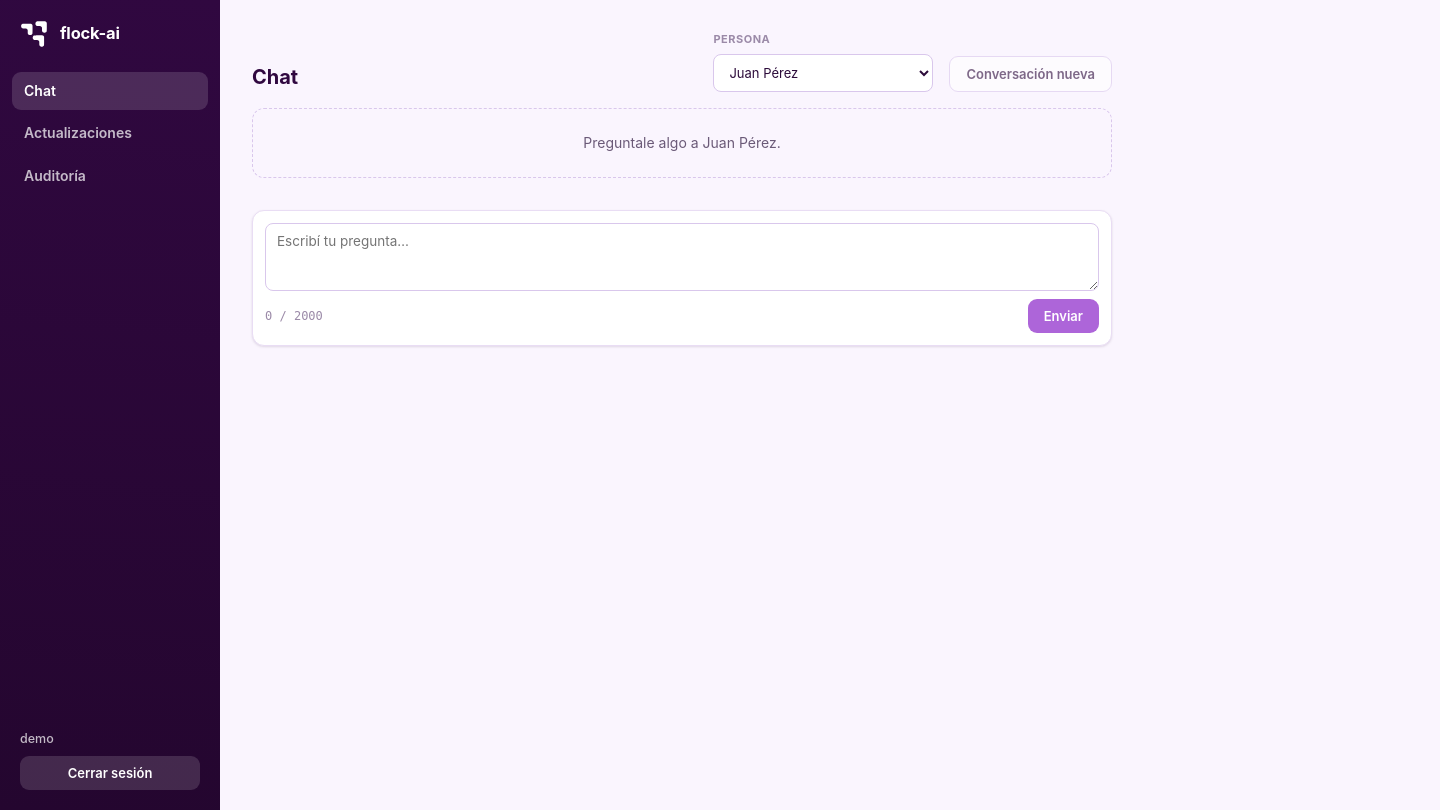
Scenario: chat screen › tells when the question could not be sent
Expected: the dropdown labelled "Persona" is shown, left=714, top=54, right=934, bottom=92
Type "¿Hola?" into the text box labelled "pregunta" at (682, 257), box left=265, top=223, right=1099, bottom=291
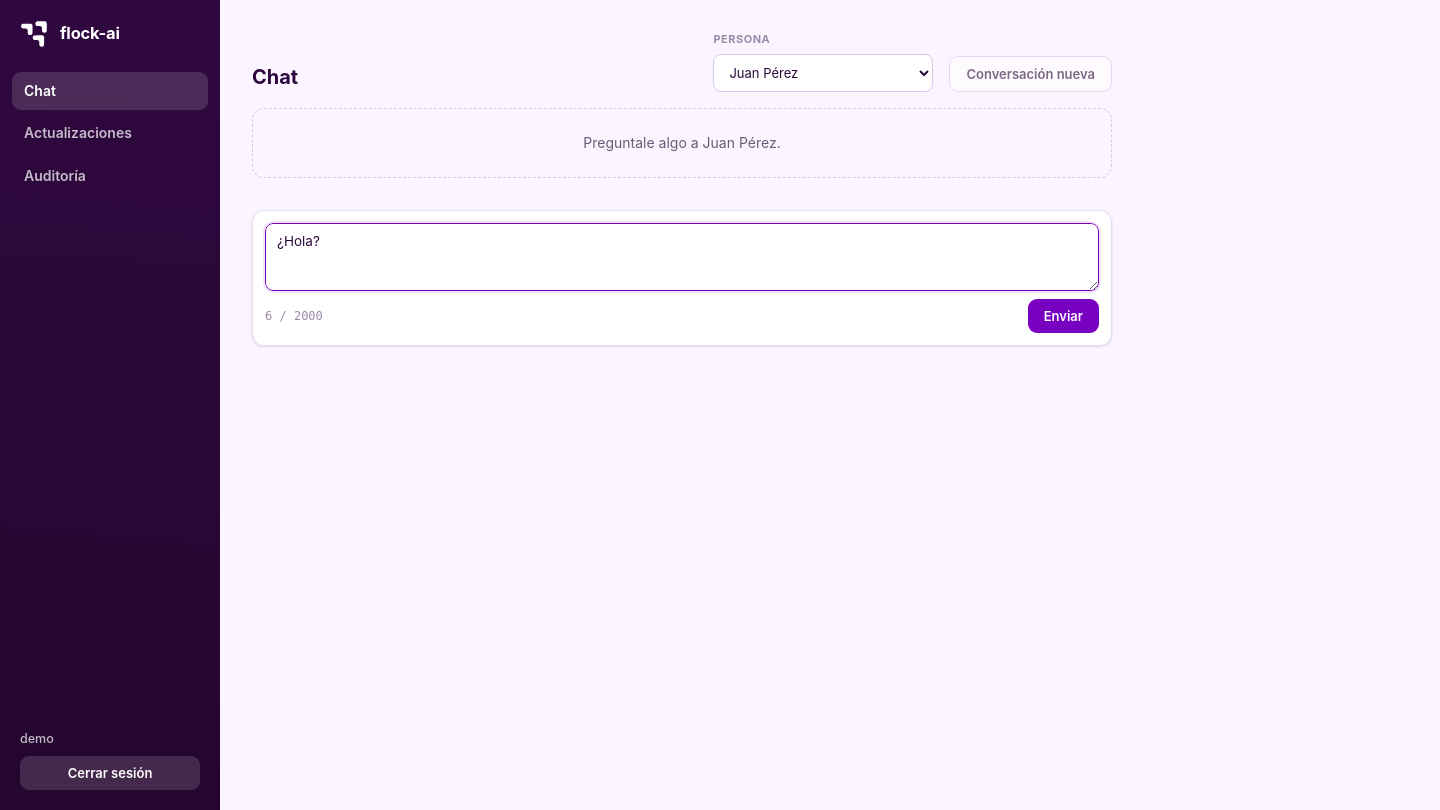
Click the button "Enviar" at (1063, 316), box left=1028, top=299, right=1099, bottom=333
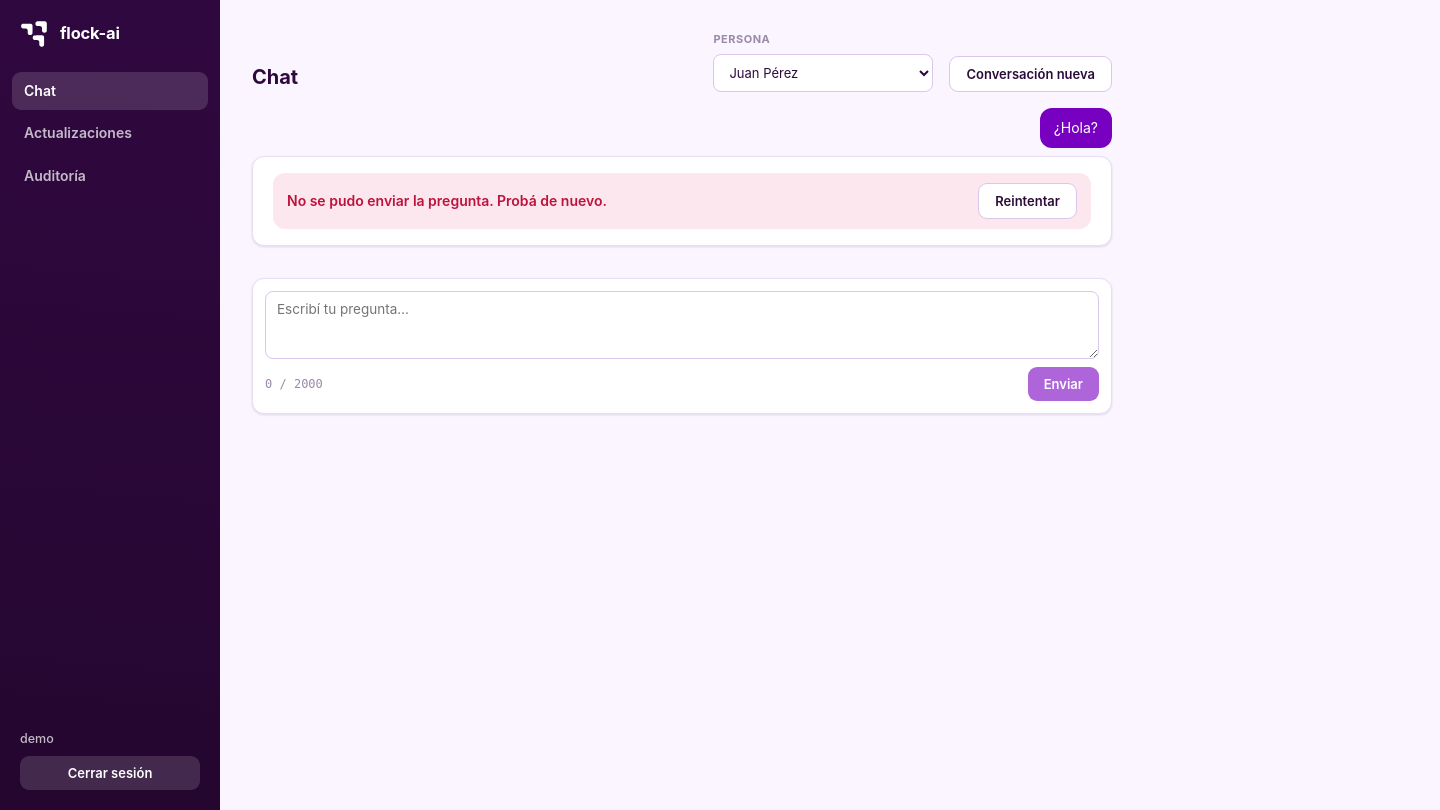
Result: the message shows "No se pudo enviar la pregunta." at left=287, top=192, right=607, bottom=209
Result: the button "Reintentar" is shown at left=978, top=183, right=1077, bottom=219
